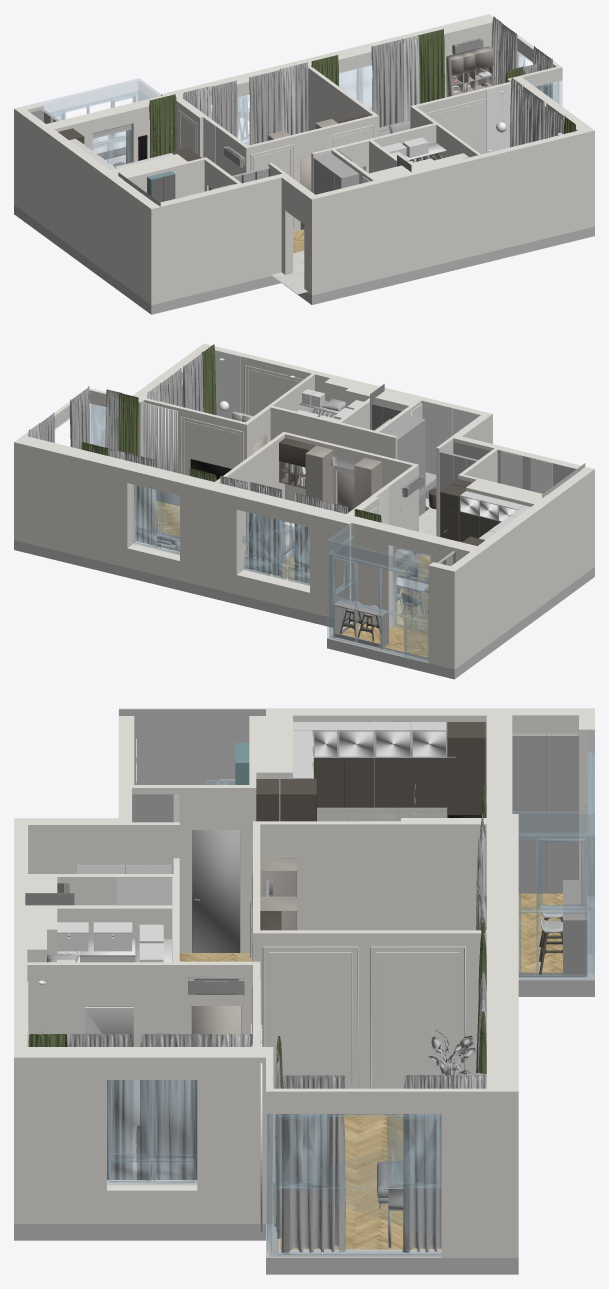
The model's file is apartment.glb.
The picture shows the model from 3 angles, top to bottom: view 1: azimuth 30°, elevation 25°; view 2: azimuth 150°, elevation 25°; view 3: azimuth 270°, elevation 25°; orthographic projection. The views are drawn at different scales.
Parts seen in each view (by area): view 1: Layer:0.013, Line014, Plane008, Plane004, panoramic_glazing_5_486, Plane007, WT03_Table, Plane1196, Box2131642365, Plane009, Plane1215, Plane1203 (+21 smaller); view 2: Layer:0.013, Line014, panoramic_glazing_5_486, ApartmentFloor, Window019, Window023, Plane004, Window022, WOODS001, Box2131642378, Box2131642371, Object657725880 (+26 smaller); view 3: Layer:0.013, panoramic_glazing_5_478, Object001, Line014, ApartmentFloor, Object_007, Plane1198, Window024, Line2000006704, Plane1203, Plane1200, door_paint004 (+30 smaller).
Part boxes in pixels (bbox=[...]): Layer:0.013: bbox=[14, 14, 594, 305]; Line014: bbox=[14, 205, 594, 314]; Plane008: bbox=[371, 39, 403, 127]; Plane004: bbox=[249, 70, 282, 145]; panoramic_glazing_5_486: bbox=[40, 78, 161, 147]; Plane007: bbox=[418, 28, 444, 103]; WT03_Table: bbox=[446, 46, 493, 97]; Plane1196: bbox=[149, 94, 176, 157]; Box2131642365: bbox=[486, 84, 511, 152]; Plane009: bbox=[402, 35, 419, 121]; Plane1215: bbox=[211, 80, 237, 137]; Plane1203: bbox=[521, 86, 544, 144]; Layer:0.013: bbox=[14, 343, 594, 669]; Line014: bbox=[14, 540, 594, 679]; panoramic_glazing_5_486: bbox=[327, 523, 429, 662]; ApartmentFloor: bbox=[156, 501, 430, 657]; Window019: bbox=[242, 512, 309, 585]; Window023: bbox=[133, 484, 179, 554]; Plane004: bbox=[249, 482, 283, 576]; Window022: bbox=[393, 546, 430, 633]; WOODS001: bbox=[143, 403, 177, 472]; Box2131642378: bbox=[422, 400, 452, 498]; Box2131642371: bbox=[215, 350, 240, 418]; Object657725880: bbox=[305, 445, 333, 502]; Layer:0.013: bbox=[14, 708, 594, 1257]; panoramic_glazing_5_478: bbox=[266, 1114, 441, 1256]; Object001: bbox=[266, 1057, 486, 1257]; Line014: bbox=[14, 896, 594, 1274]; ApartmentFloor: bbox=[179, 892, 562, 1249]; Object_007: bbox=[512, 733, 578, 893]; Plane1198: bbox=[281, 1075, 345, 1254]; Window024: bbox=[107, 1080, 196, 1184]; Line2000006704: bbox=[119, 709, 265, 784]; Plane1203: bbox=[139, 1033, 211, 1180]; Plane1200: bbox=[402, 1075, 454, 1253]; door_paint004: bbox=[192, 830, 240, 952].
Bounding box in the file's own units: 14.87 × 3.52 × 9.5.
33 materials, 2 textured.
